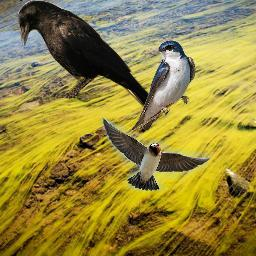Crow: (18, 0, 159, 112)
Swallow: (101, 116, 210, 191), (131, 39, 196, 132)
